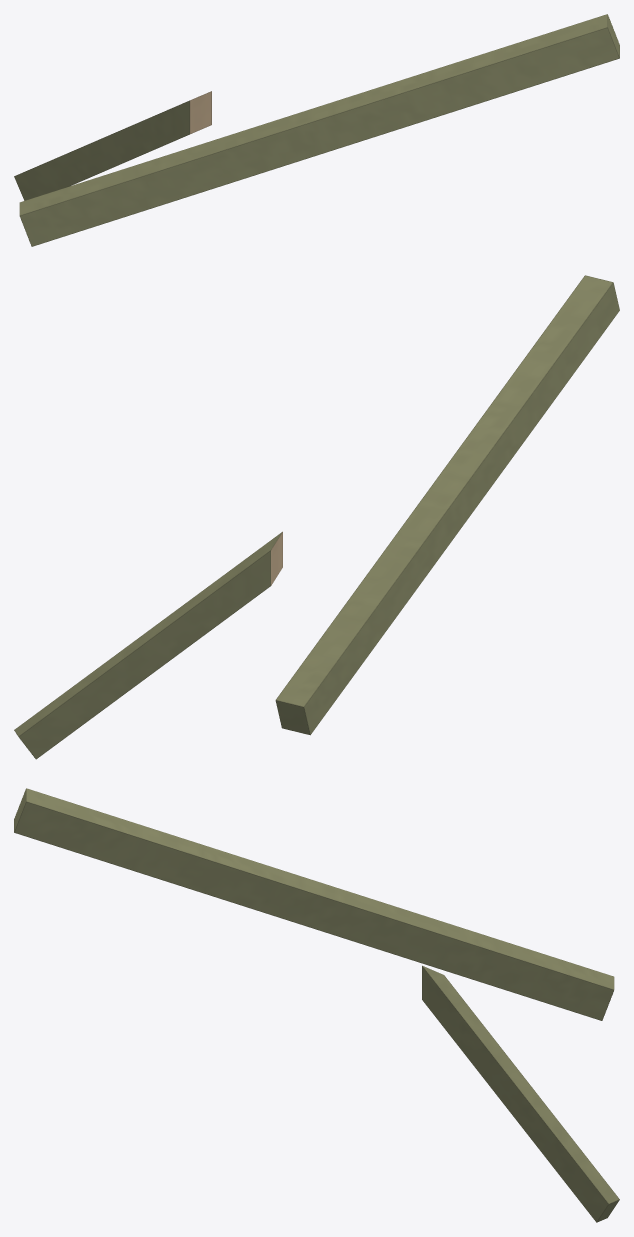
The model's file is rafter-at-hip.glb.
3 renders of one model, top to bottom at view 1: azimuth 90°, elevation 25°; view 2: azimuth 150°, elevation 25°; view 3: azimuth 270°, elevation 25°, orthographic. The views are drawn at different scales.
Parts seen in each view (by area): view 1: part-a, part-b; view 2: part-a, part-b; view 3: part-a, part-b.
Boxes of the visible parts, x1,y1,x2,y2 form: part-a: [19, 14, 619, 246]; part-b: [14, 91, 211, 200]; part-a: [275, 275, 619, 735]; part-b: [14, 531, 282, 759]; part-a: [14, 788, 614, 1020]; part-b: [422, 965, 619, 1222].
Bounding box in the file's own units: 0.9278 × 0.9681 × 1.75.
